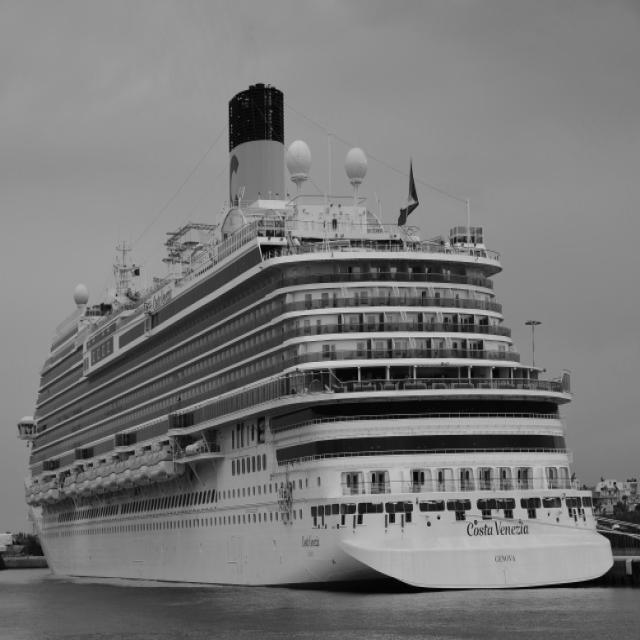cruises: (25, 75, 626, 608)
